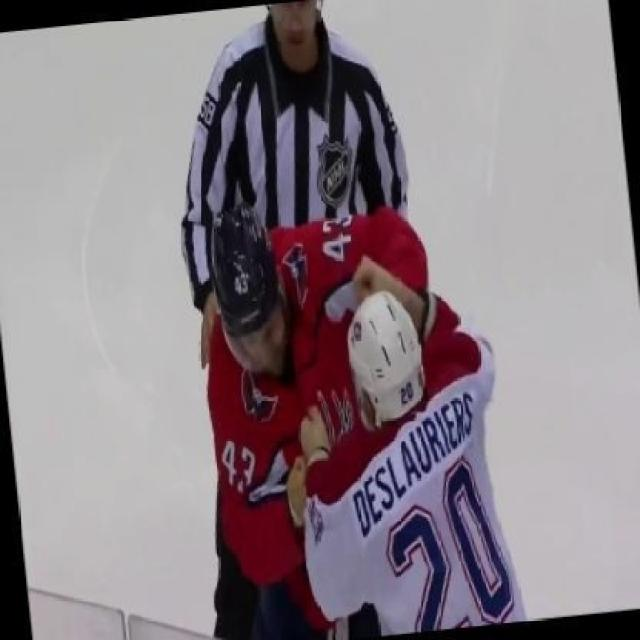fight: (200, 208, 529, 640)
non-fight: (182, 0, 414, 365)
